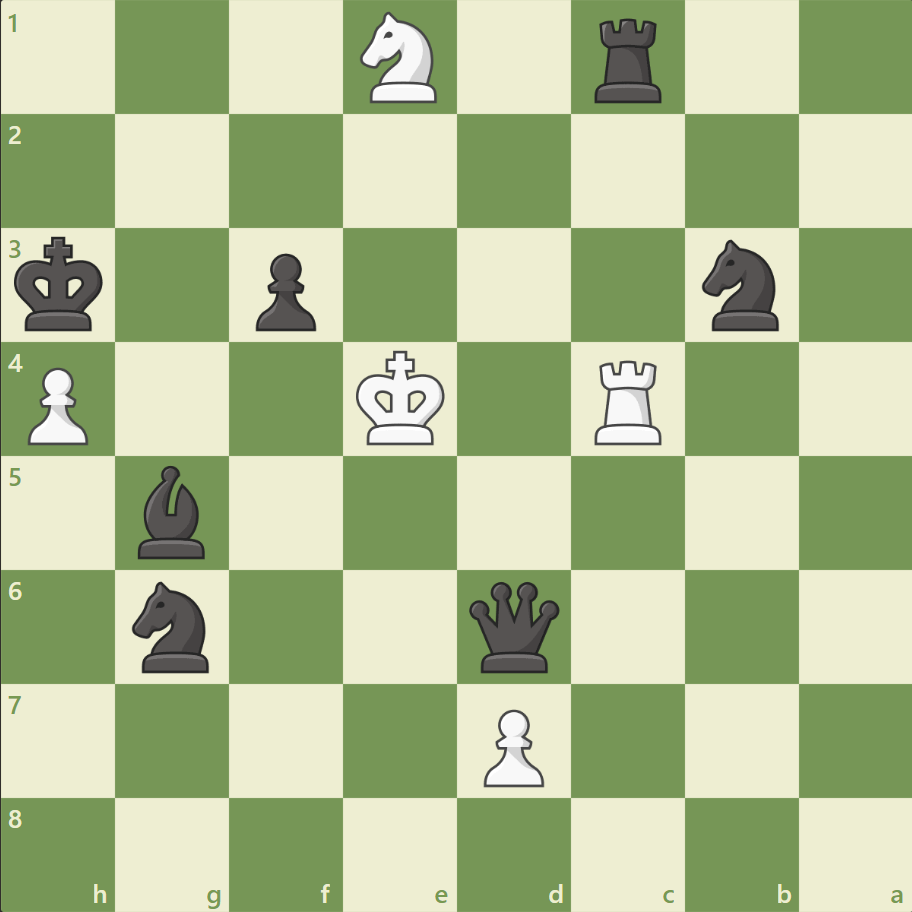K: (351, 344, 451, 452)
N: (351, 7, 449, 110)
P: (474, 700, 549, 791), (20, 359, 95, 450)
R: (587, 352, 670, 449)
b: (131, 460, 215, 563)
k: (11, 231, 111, 339)
n: (124, 575, 222, 677), (692, 234, 789, 337)
p: (247, 246, 322, 337)
q: (464, 576, 563, 676)
r: (587, 12, 670, 109)
